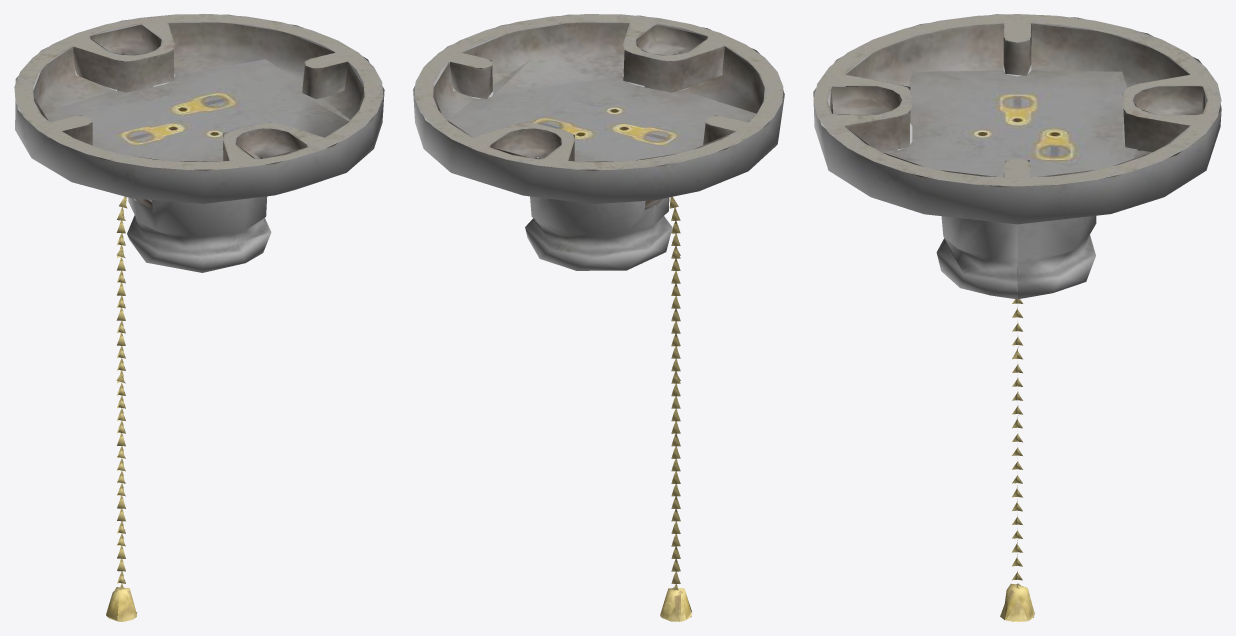
Rendered from ph_pull_chain_light_socket.glb.
The picture shows the model from 3 angles, left to right: view 1: azimuth 30°, elevation 25°; view 2: azimuth 150°, elevation 25°; view 3: azimuth 270°, elevation 25°; orthographic projection. The views are drawn at different scales.
Visible parts, largest first — view 1: pull_chain_light_socket; view 2: pull_chain_light_socket; view 3: pull_chain_light_socket.
Part boxes in pixels (<box>): pull_chain_light_socket: <box>14,14,384,621</box>; pull_chain_light_socket: <box>413,14,784,621</box>; pull_chain_light_socket: <box>813,14,1221,621</box>.
Bounding box in the file's own units: 0.1102 × 0.1658 × 0.1101.
Materials: 1 (1 with a texture image).
